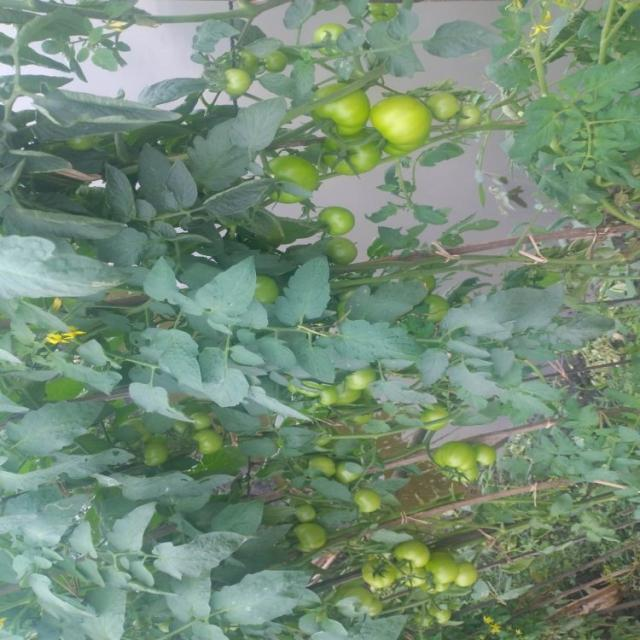tomato: (371, 89, 433, 163), (264, 154, 338, 216), (429, 437, 492, 495), (324, 128, 382, 186), (310, 89, 372, 126), (407, 394, 452, 441), (308, 19, 357, 62), (341, 359, 384, 404), (354, 480, 398, 523), (363, 541, 400, 587), (134, 437, 173, 477), (320, 201, 358, 242), (334, 451, 375, 489), (396, 527, 427, 575), (281, 502, 332, 531), (320, 377, 362, 412), (424, 82, 456, 125), (308, 456, 351, 488), (418, 290, 453, 328), (433, 539, 454, 600), (470, 435, 500, 476), (335, 231, 362, 274), (301, 517, 328, 560), (220, 61, 246, 101), (259, 40, 290, 72), (457, 97, 480, 135), (201, 428, 231, 454), (187, 403, 210, 433), (418, 601, 439, 633), (464, 555, 481, 589), (442, 602, 452, 632)
